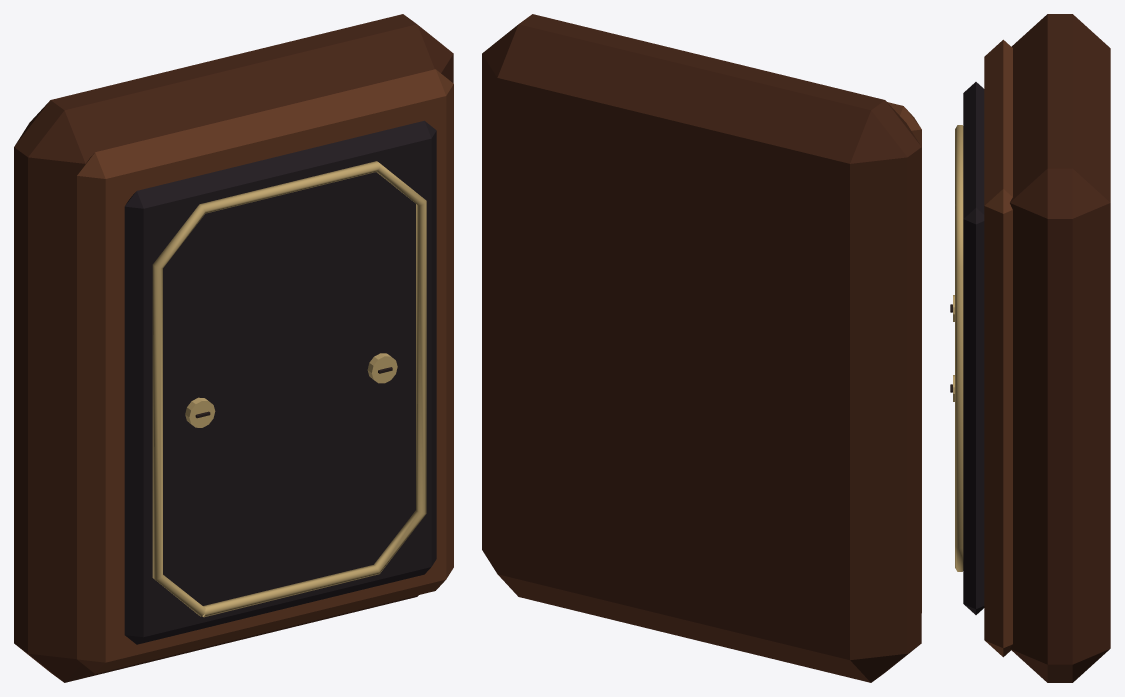
The model's file is BedroomNumberBlank.glb.
3 views of the same model, side by side, from view 1: azimuth 30°, elevation 25°; view 2: azimuth 150°, elevation 25°; view 3: azimuth 270°, elevation 25° (orthographic). The views are drawn at different scales.
Parts seen in each view (by area): view 1: EnamelFace.015, BevelledOak.015, OakMoulding.015, GoldCartouche.015, FlushBrassFixing.031, FlushBrassFixing.030; view 2: BevelledOak.015, OakMoulding.015; view 3: BevelledOak.015, OakMoulding.015, EnamelFace.015, GoldCartouche.015.
Part boxes in pixels (left/top/right/bottom): EnamelFace.015: left=124, top=120, right=436, bottom=644; BevelledOak.015: left=14, top=14, right=453, bottom=682; OakMoulding.015: left=77, top=69, right=453, bottom=673; GoldCartouche.015: left=152, top=161, right=426, bottom=617; FlushBrassFixing.031: left=367, top=353, right=397, bottom=383; FlushBrassFixing.030: left=185, top=397, right=215, bottom=427; BevelledOak.015: left=482, top=14, right=921, bottom=682; OakMoulding.015: left=887, top=102, right=921, bottom=612; BevelledOak.015: left=1010, top=14, right=1110, bottom=682; OakMoulding.015: left=984, top=39, right=1012, bottom=657; EnamelFace.015: left=963, top=82, right=984, bottom=614; GoldCartouche.015: left=955, top=125, right=963, bottom=571.
Bounding box in the file's own units: 1.05 × 1.35 × 0.381.
